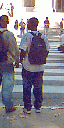person: (17, 17, 47, 103)
